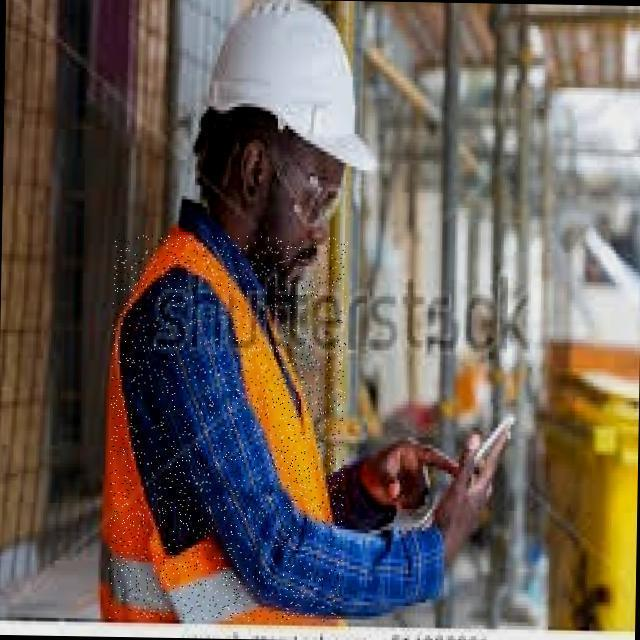helmet: (203, 0, 390, 182)
vest: (107, 234, 347, 623)
